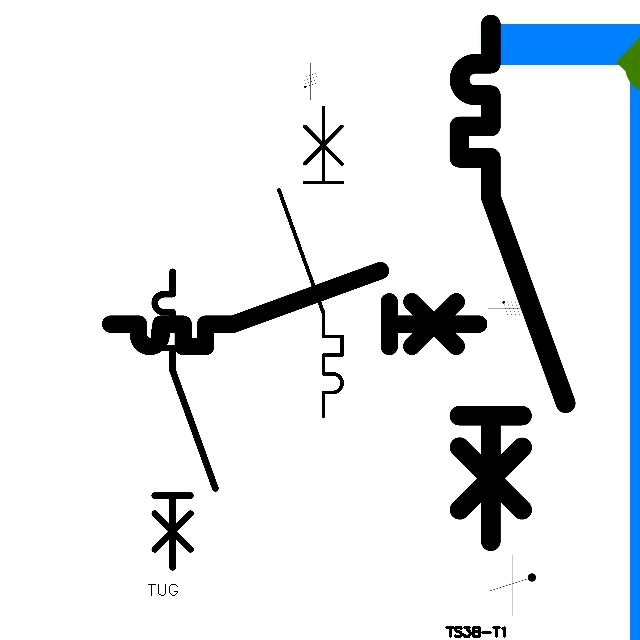interruptor_termomagnetico: (446, 11, 579, 555), (101, 261, 488, 356), (271, 99, 350, 423), (147, 264, 223, 575)
